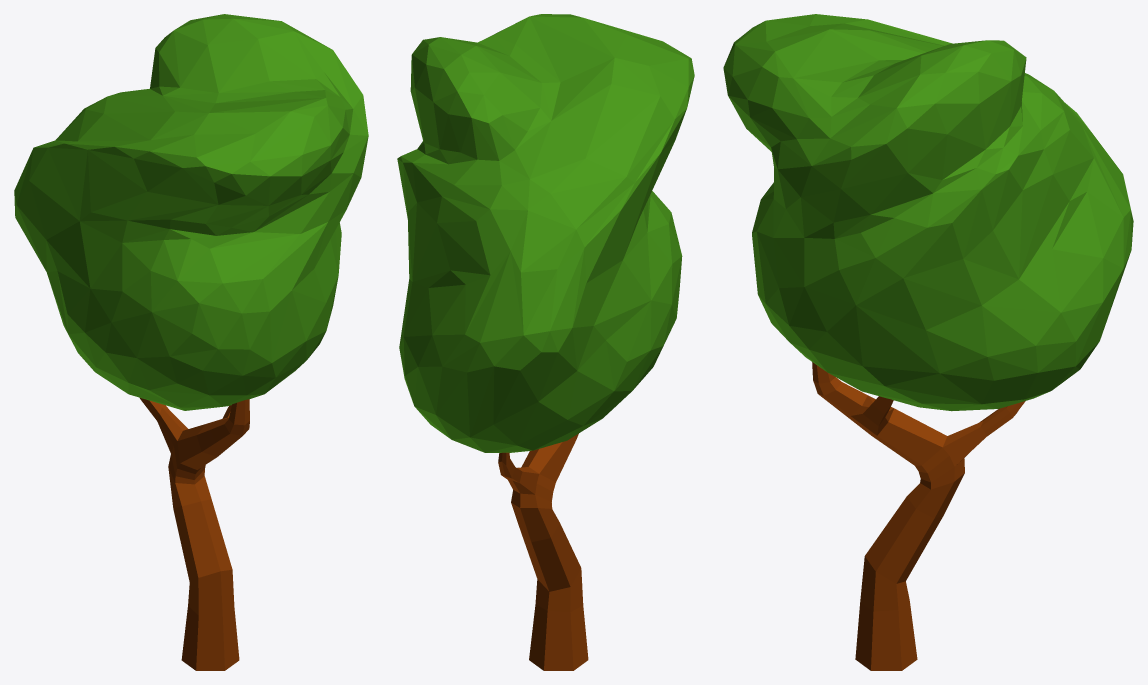
The model's file is derevo_kaka_.fbx.
3 views of the same model, side by side, from view 1: azimuth 30°, elevation 25°; view 2: azimuth 150°, elevation 25°; view 3: azimuth 270°, elevation 25° (orthographic). The views are drawn at different scales.
Parts seen in each view (by area): view 1: Icosphere, Cylinder; view 2: Icosphere, Cylinder; view 3: Icosphere, Cylinder.
Part boxes in pixels (x1,y1,x2,y2): Icosphere: [14, 14, 368, 410]; Cylinder: [140, 398, 249, 670]; Icosphere: [397, 14, 694, 452]; Cylinder: [498, 433, 588, 670]; Icosphere: [723, 14, 1133, 411]; Cylinder: [812, 362, 1025, 670].
Bounding box in the file's own units: 998 × 1320 × 2290.
